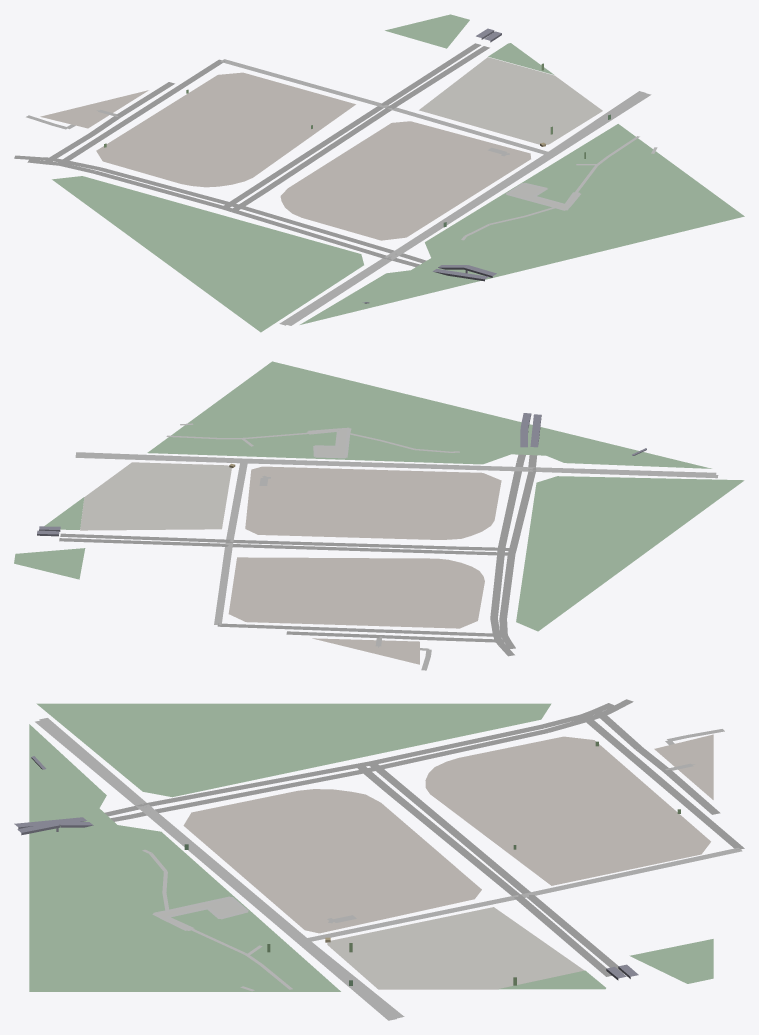
3 renders of one model, top to bottom at view 1: azimuth 30°, elevation 25°; view 2: azimuth 150°, elevation 25°; view 3: azimuth 270°, elevation 25°, orthographic. The views are drawn at different scales.
Size of the model in its own units: 562 by 11.73 by 534.
